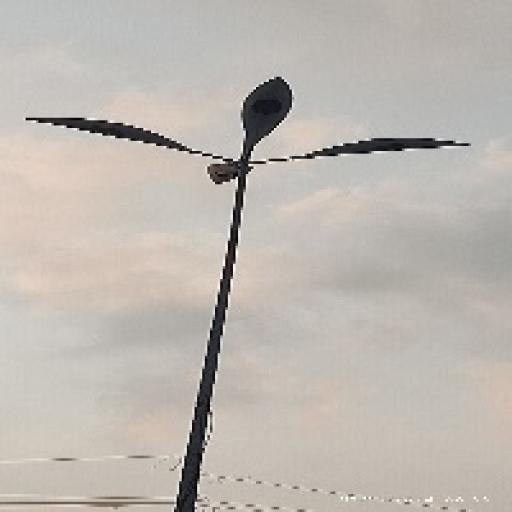Not Working: (297, 123, 475, 174), (23, 107, 191, 160), (228, 69, 296, 154)
